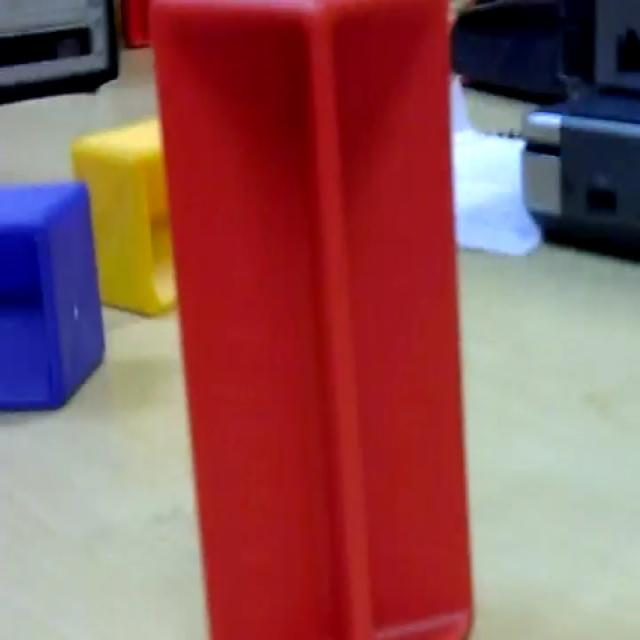blue_block: (0, 176, 105, 411)
red_block: (147, 1, 475, 636)
yellow_block: (70, 113, 177, 316)
